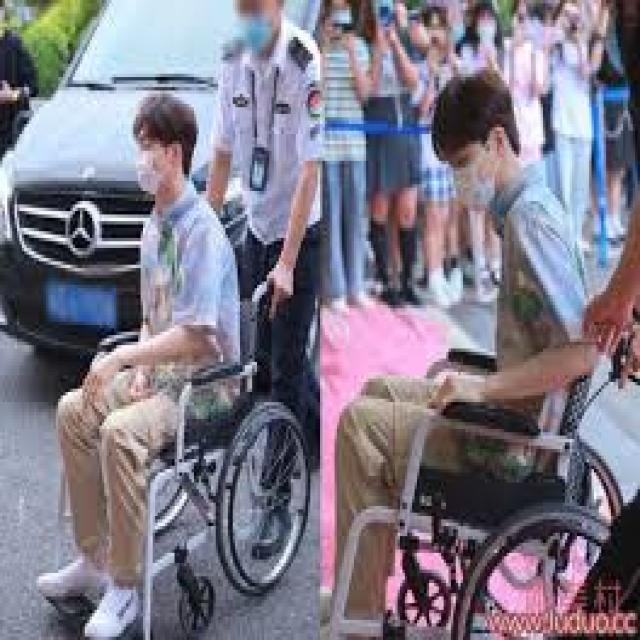wheelchairs: (332, 295, 638, 637), (44, 258, 306, 637)
